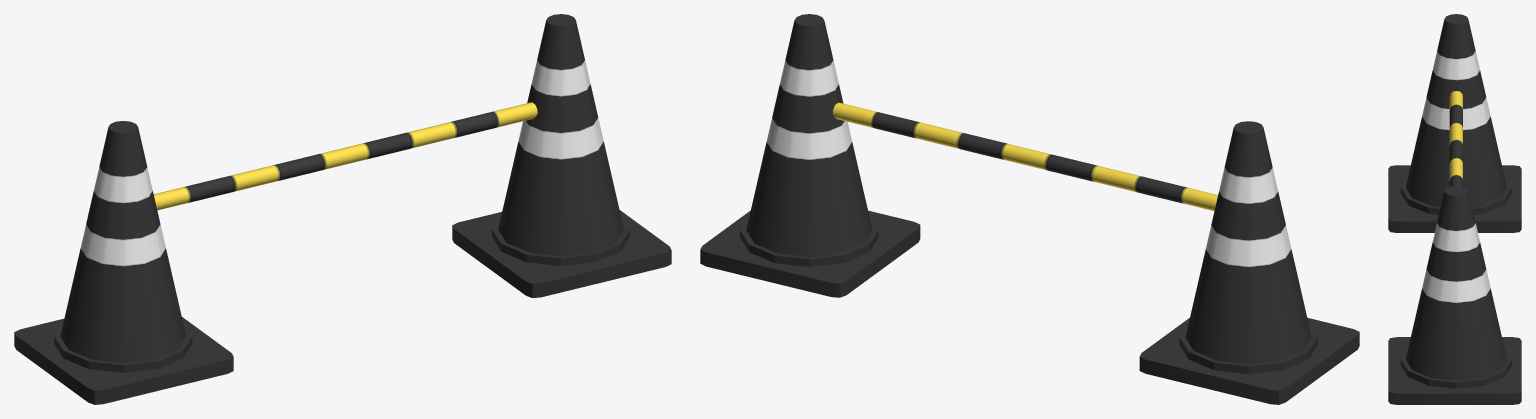
File: Barricade_2.fbx
The picture shows the model from 3 angles, left to right: view 1: azimuth 30°, elevation 25°; view 2: azimuth 150°, elevation 25°; view 3: azimuth 270°, elevation 25°; orthographic projection. The views are drawn at different scales.
Parts seen in each view (by area): view 1: Barricade_2; view 2: Barricade_2; view 3: Barricade_2.
Boxes of the visible parts, x1,y1,x2,y2 form: Barricade_2: (14, 14, 671, 404); Barricade_2: (700, 14, 1359, 404); Barricade_2: (1388, 14, 1521, 404).
Bounding box in the file's own units: 254 × 96.44 × 62.84.
